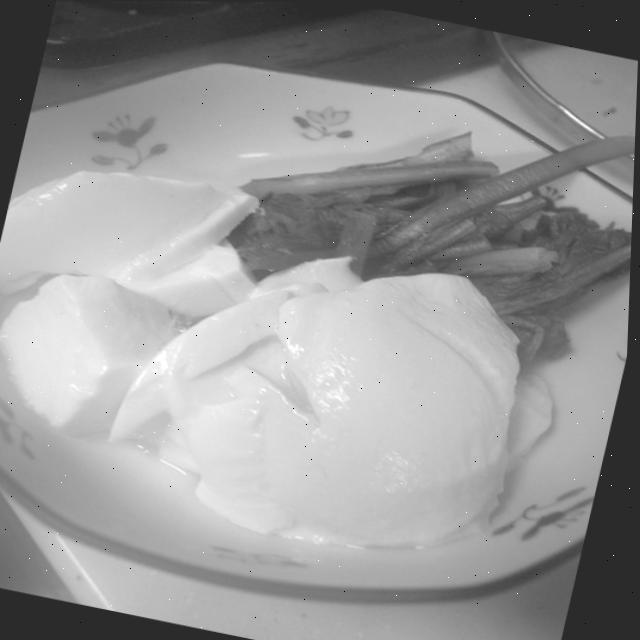豆腐料理: (0, 21, 639, 626)
